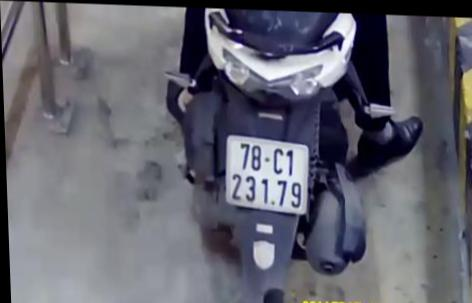LP: (218, 125, 308, 216)
